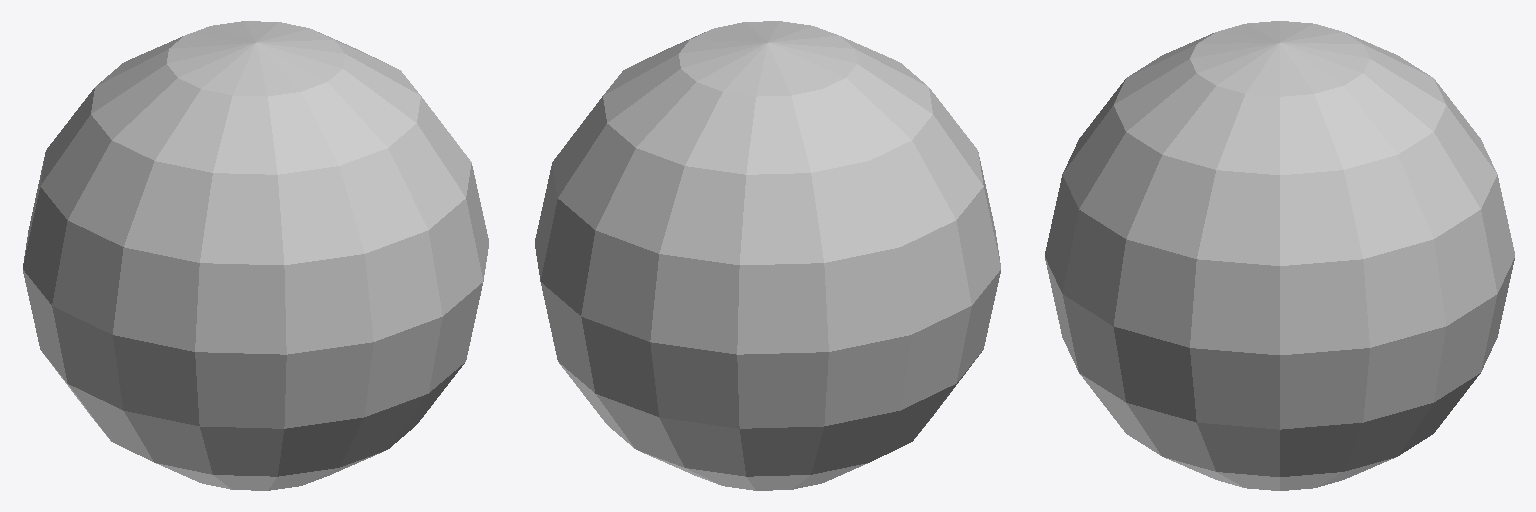
Rendered from bola15.obj.
3 views of the same model, side by side, from view 1: azimuth 30°, elevation 25°; view 2: azimuth 150°, elevation 25°; view 3: azimuth 270°, elevation 25° (orthographic).
Visible parts, largest first — view 1: POOL_TABLE.039; view 2: POOL_TABLE.039; view 3: POOL_TABLE.039.
Part boxes in pixels (x1,y1,x2,y2): POOL_TABLE.039: (23, 21, 488, 490); POOL_TABLE.039: (535, 21, 1000, 490); POOL_TABLE.039: (1045, 21, 1514, 490).
Size of the model in its own units: 0.0585 by 0.0585 by 0.0585.